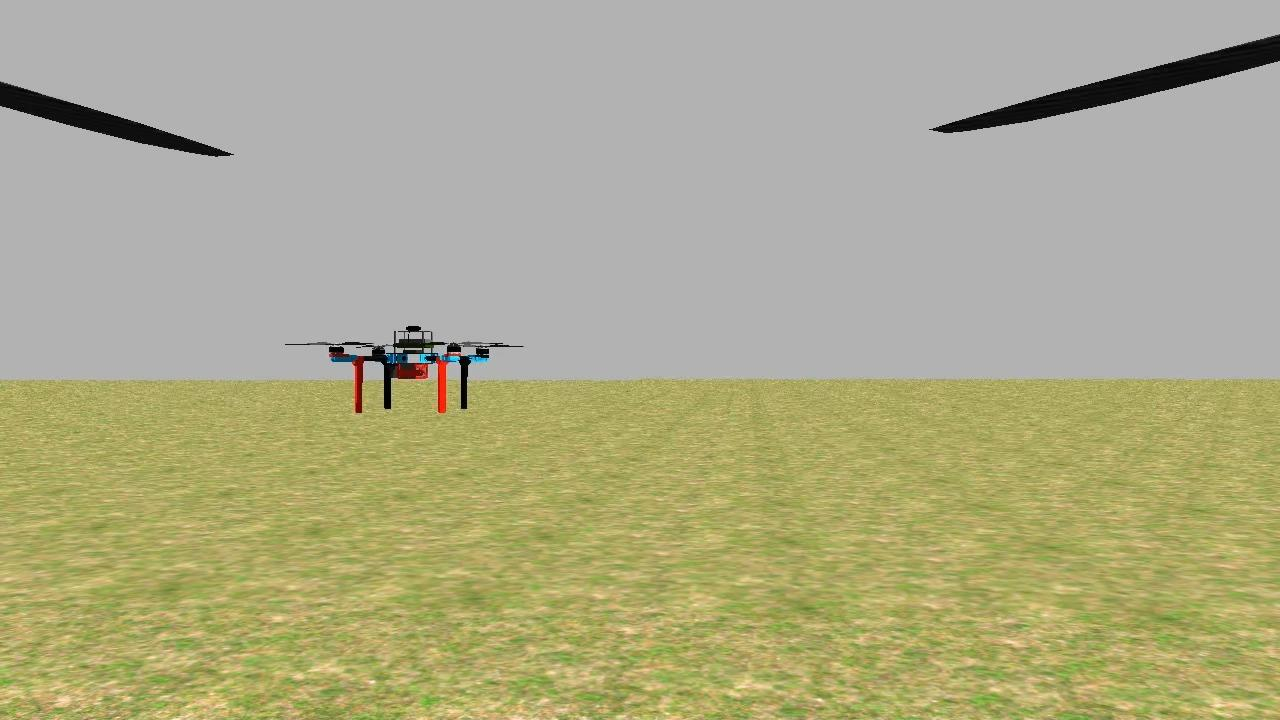UAV: (318, 311, 498, 426)
